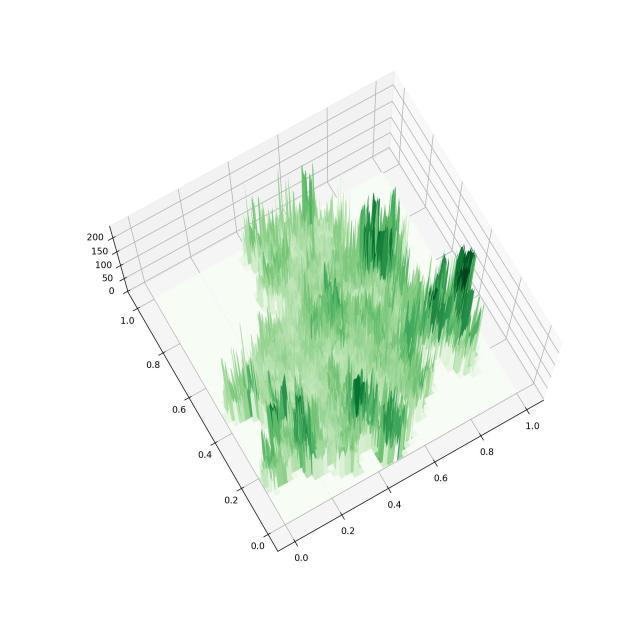fir: (64, 44, 588, 581)
